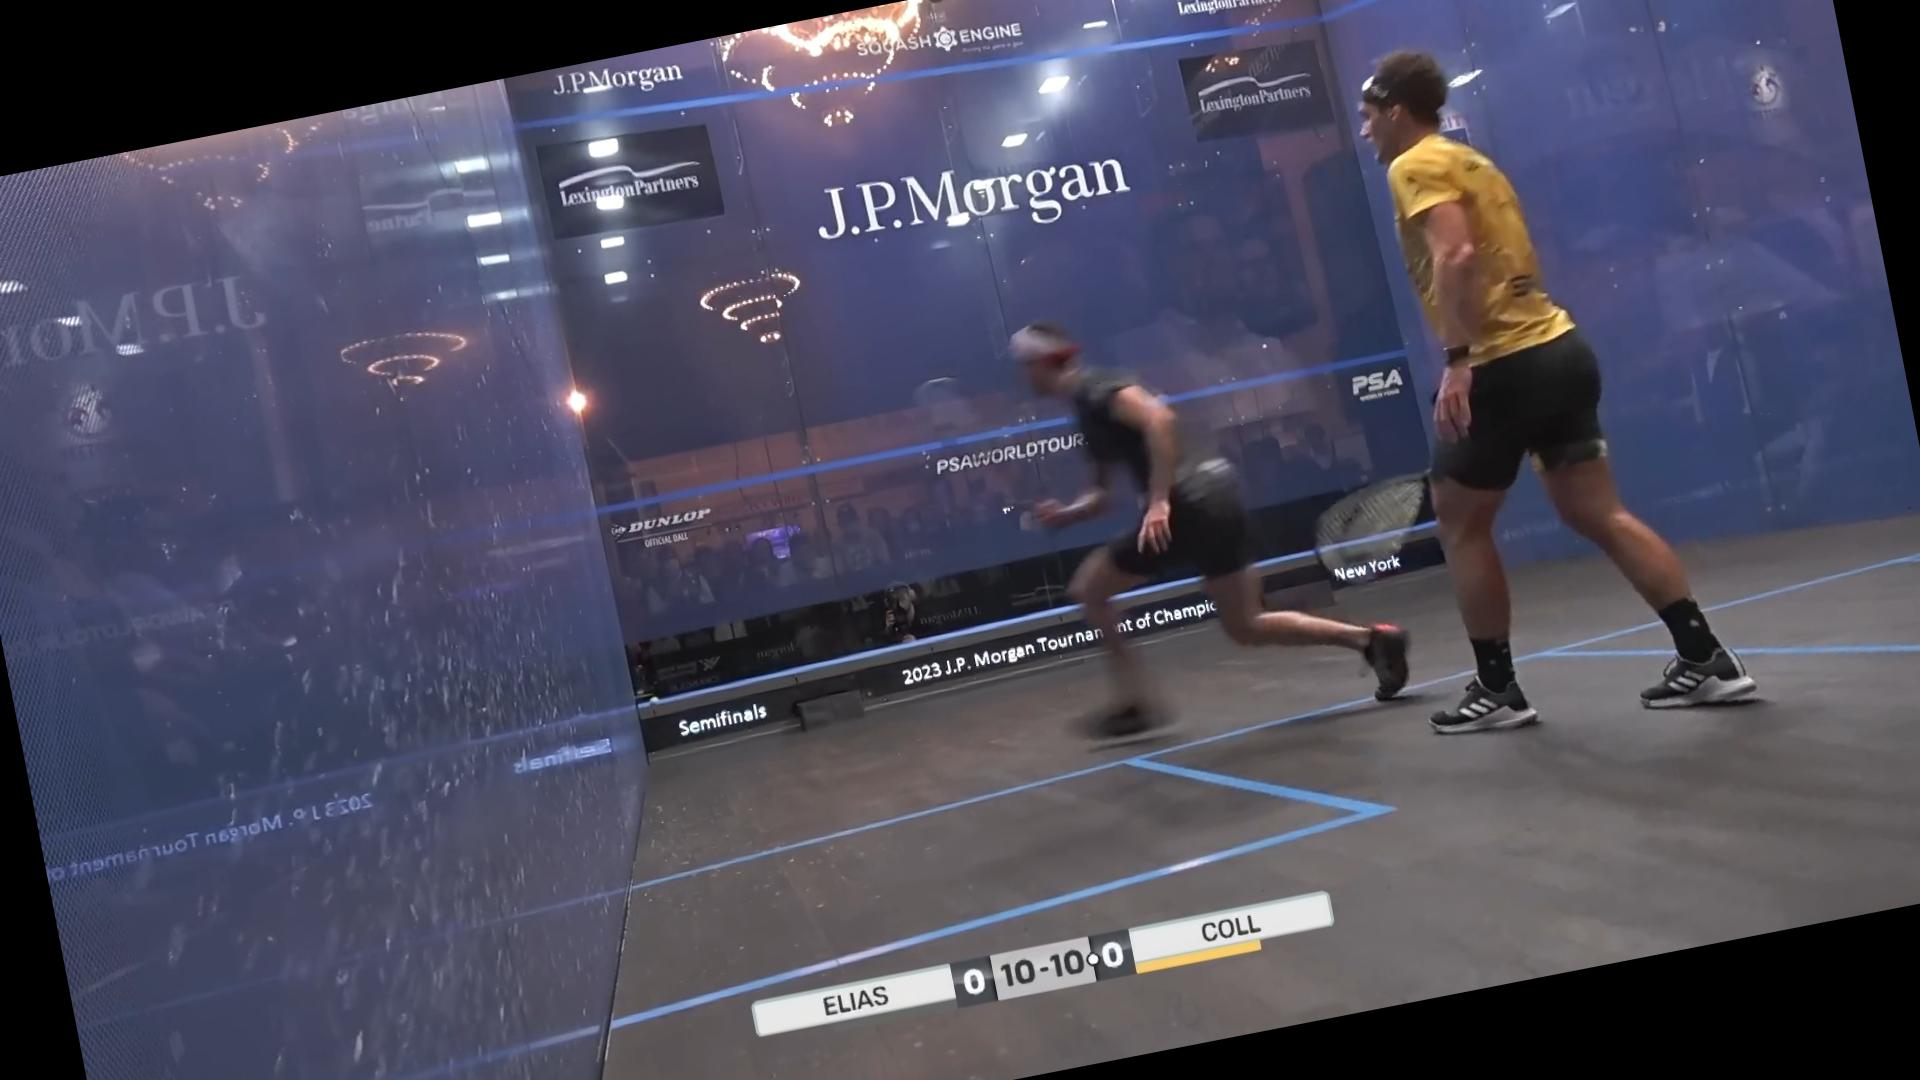Racket: (894, 353, 1038, 524), (1288, 463, 1453, 595)
